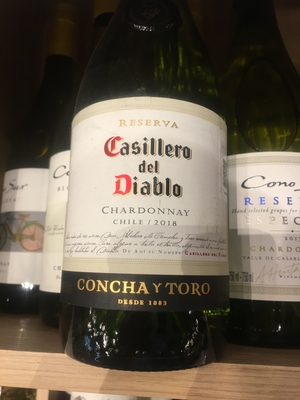casillero del diablo chardonnay: (65, 35, 238, 374)
